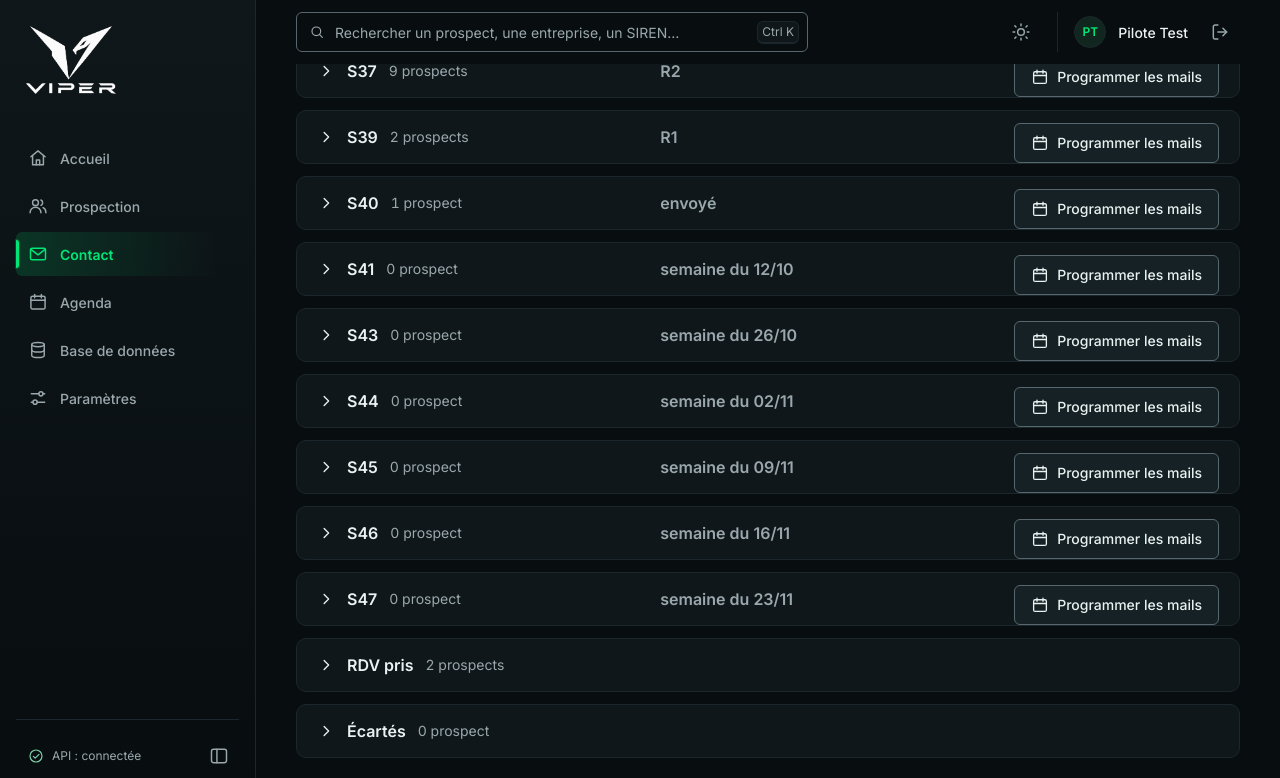
Test: Contact page › says when a cohort holds nobody yet
(page scrolled)
What coordinates should you click on to do the following:
click the button "S44 0 prospect semaine du 02/11"
I would click on:
 (768, 401)
Its box is [297,375,1239,427].
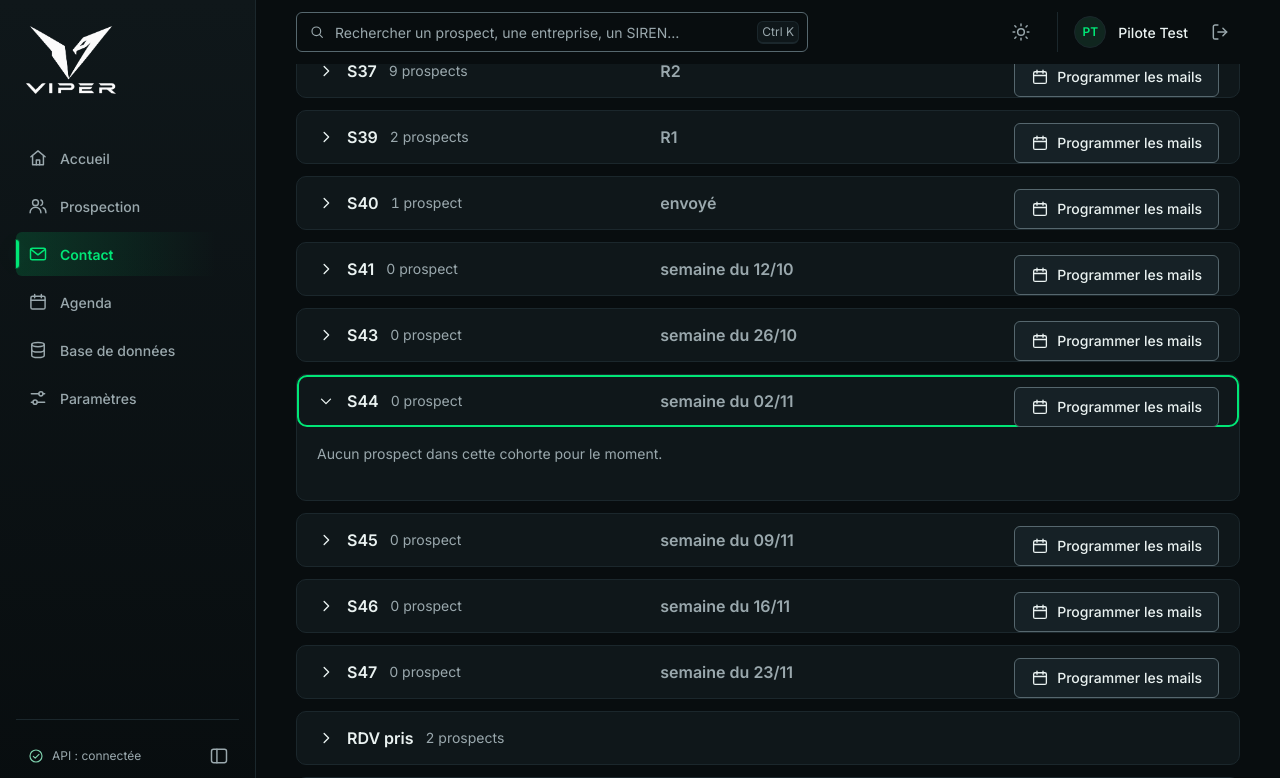
Result: the text "Aucun prospect dans cette cohorte pour le moment." is shown at [317,445,662,462]
